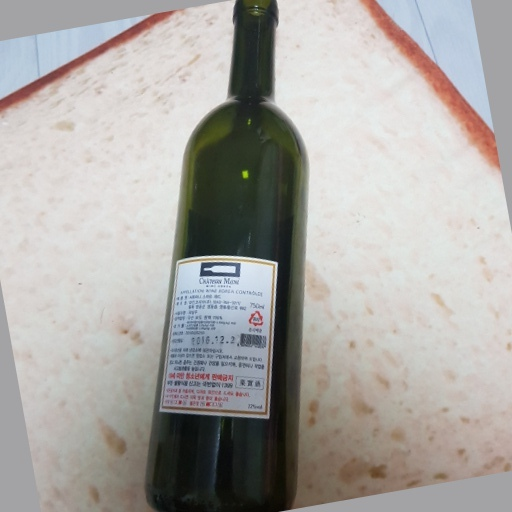Glass_2: (149, 2, 313, 512)
